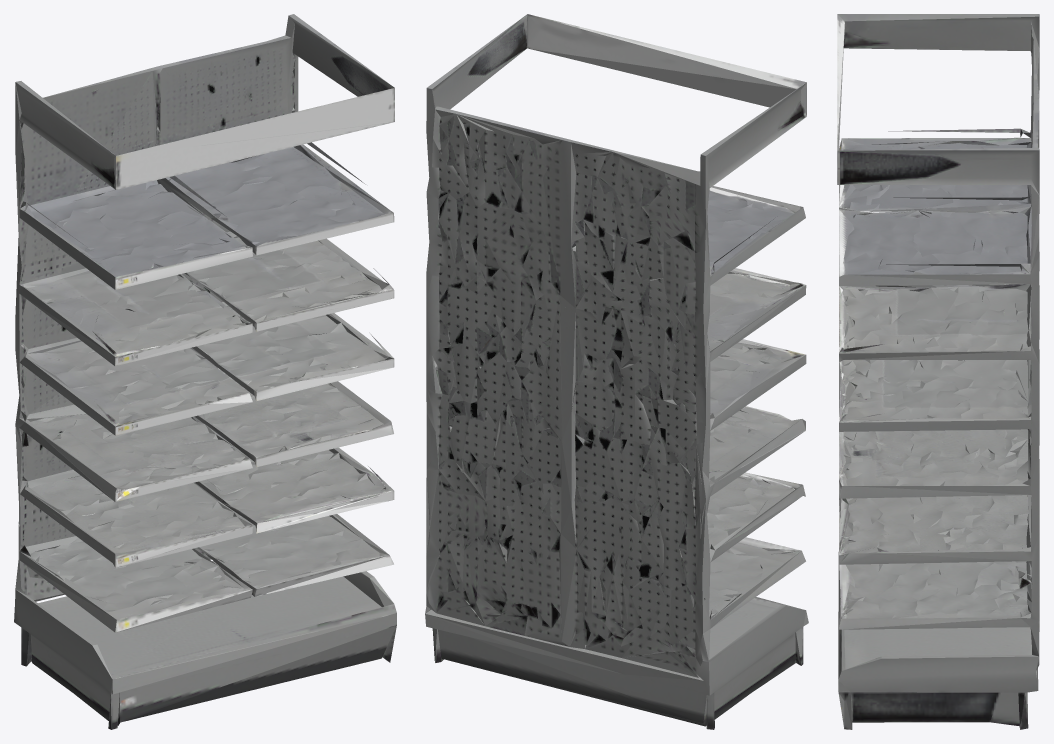
Rendered from gondola.glb.
The picture shows the model from 3 angles, left to right: view 1: azimuth 30°, elevation 25°; view 2: azimuth 150°, elevation 25°; view 3: azimuth 270°, elevation 25°; orthographic projection.
Bounding box in the file's own units: 0.9773 × 1.9 × 0.6015.
Materials: 1 (1 with a texture image).
